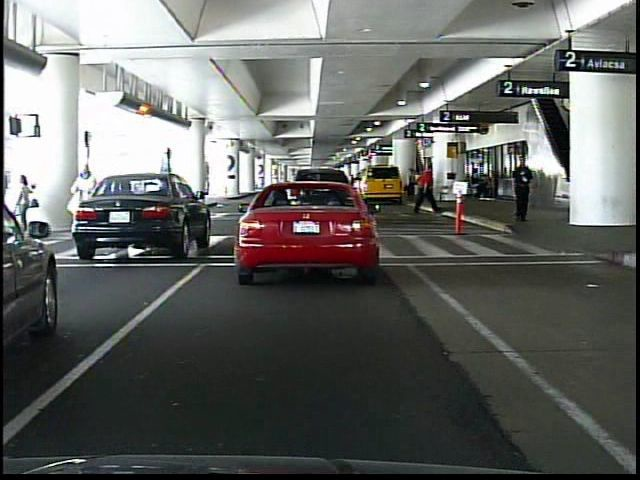person: (70, 163, 103, 246), (511, 154, 534, 226), (16, 172, 35, 243), (414, 164, 437, 218), (405, 166, 418, 203)
